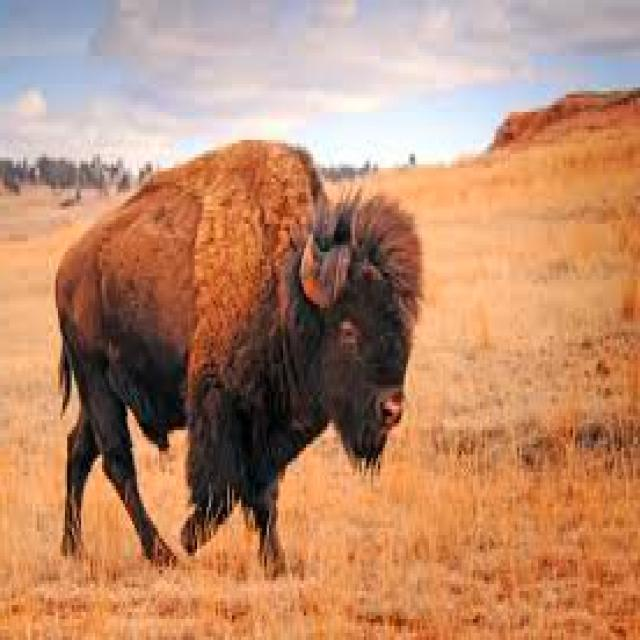bison: (58, 140, 422, 570)
